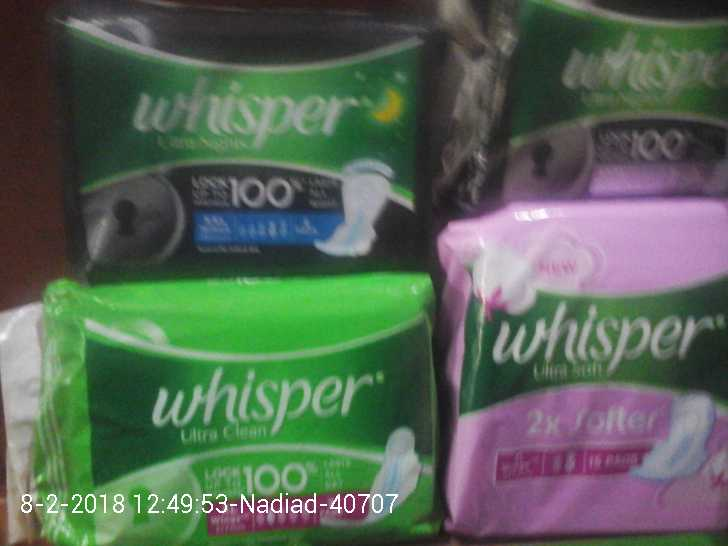whisper: (41, 279, 438, 546), (58, 15, 438, 276), (444, 203, 728, 543), (446, 1, 727, 198)
